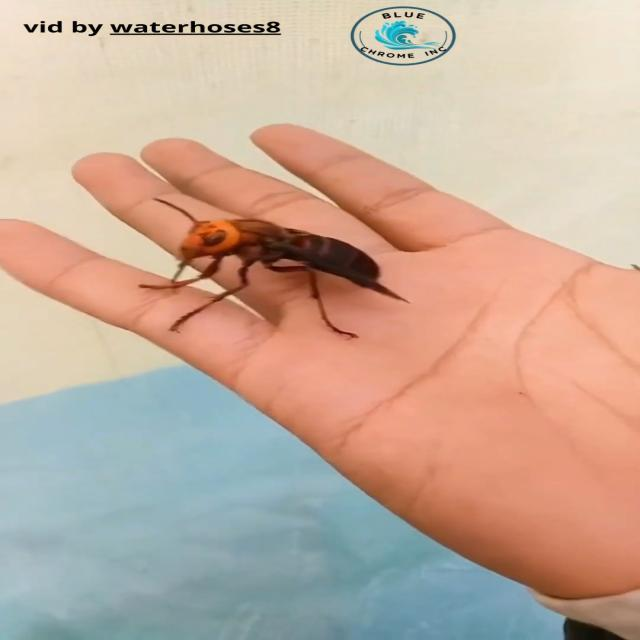Hornets: (133, 195, 415, 342)
